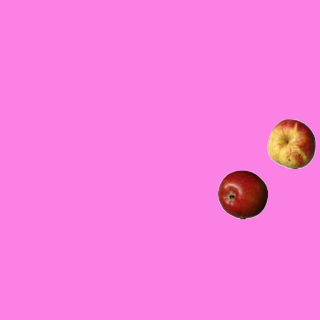Apple Braeburn: (217, 169, 267, 219)
Apple Red Yellow 1: (266, 118, 316, 168)
